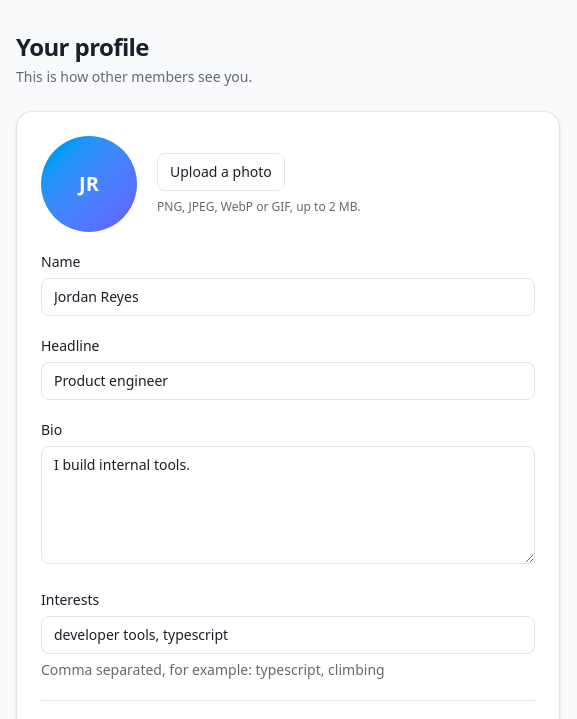
Scenario: profile page › confirms the save and refetches the profile so the form is not stale
Replace the text in the field labelled "Name" with "Jordan M. Reyes" at (288, 297), box [41,278,535,316]
(page scrolled)
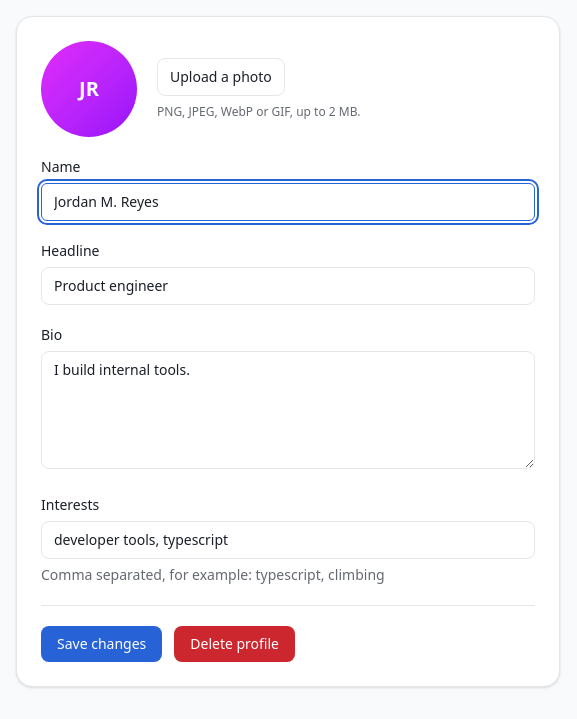
Click the button "Save changes" at (102, 644), box [41,626,162,662]
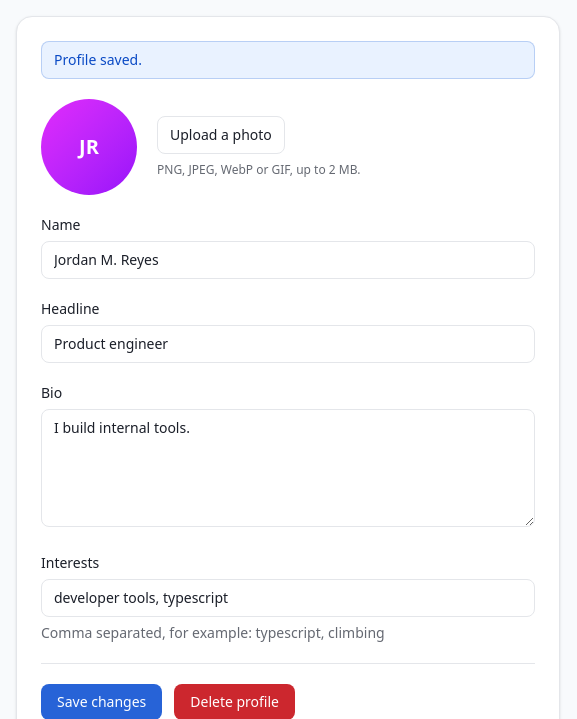
Expected: the text "Profile saved." is shown, [41,41,535,79]
